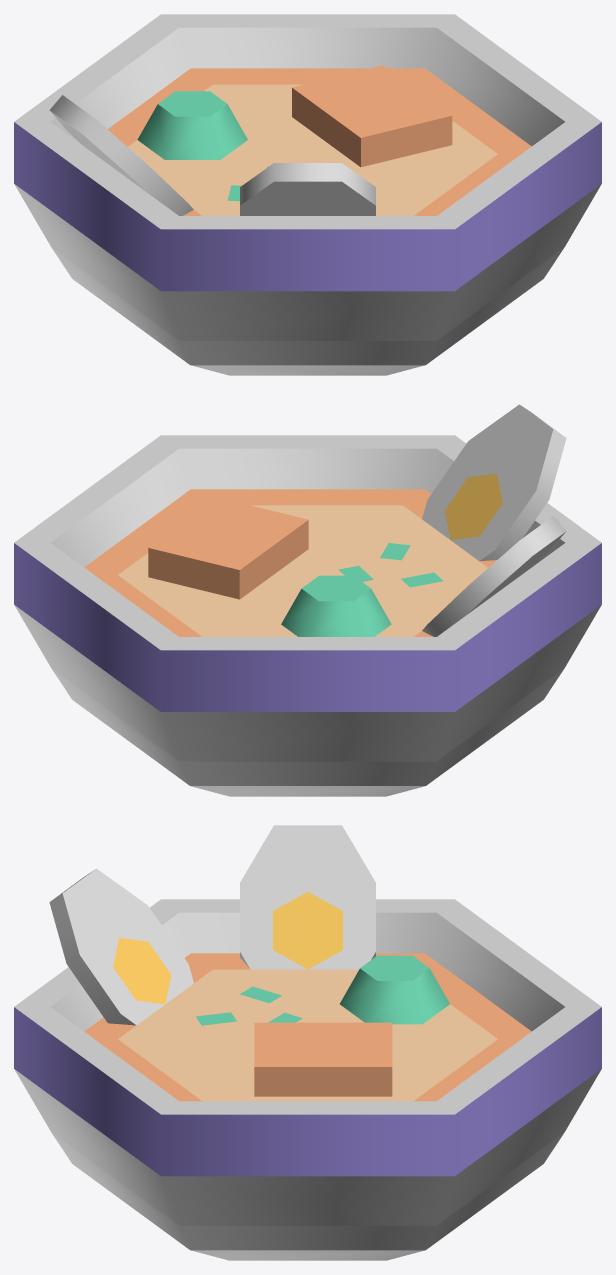
Rendered from bowlBroth.obj.
3 views of the same model, one above another, from view 1: azimuth 30°, elevation 25°; view 2: azimuth 150°, elevation 25°; view 3: azimuth 270°, elevation 25° (orthographic).
Parts seen in each view (by area): view 1: bowlBroth, Group; view 2: bowlBroth, Group; view 3: bowlBroth, Group.
Part boxes in pixels (x1,y1,x2,y2): bowlBroth: (14, 14, 601, 375); Group: (49, 95, 375, 215); bowlBroth: (14, 435, 601, 796); Group: (422, 404, 566, 636); bowlBroth: (14, 899, 601, 1260); Group: (49, 825, 375, 1025).
Size of the model in its own units: 0.5262 by 0.2903 by 0.5798.
